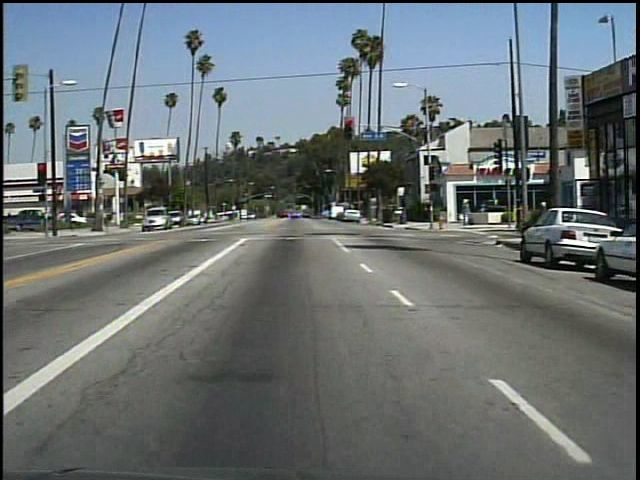person: (533, 194, 556, 235), (457, 194, 473, 227)
